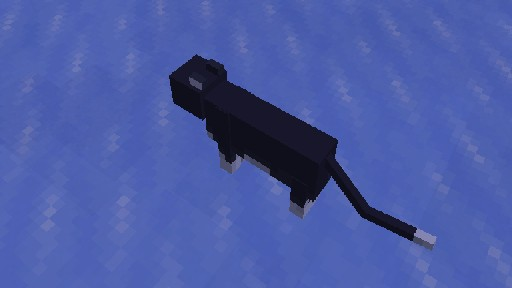cat: (168, 53, 437, 250)
